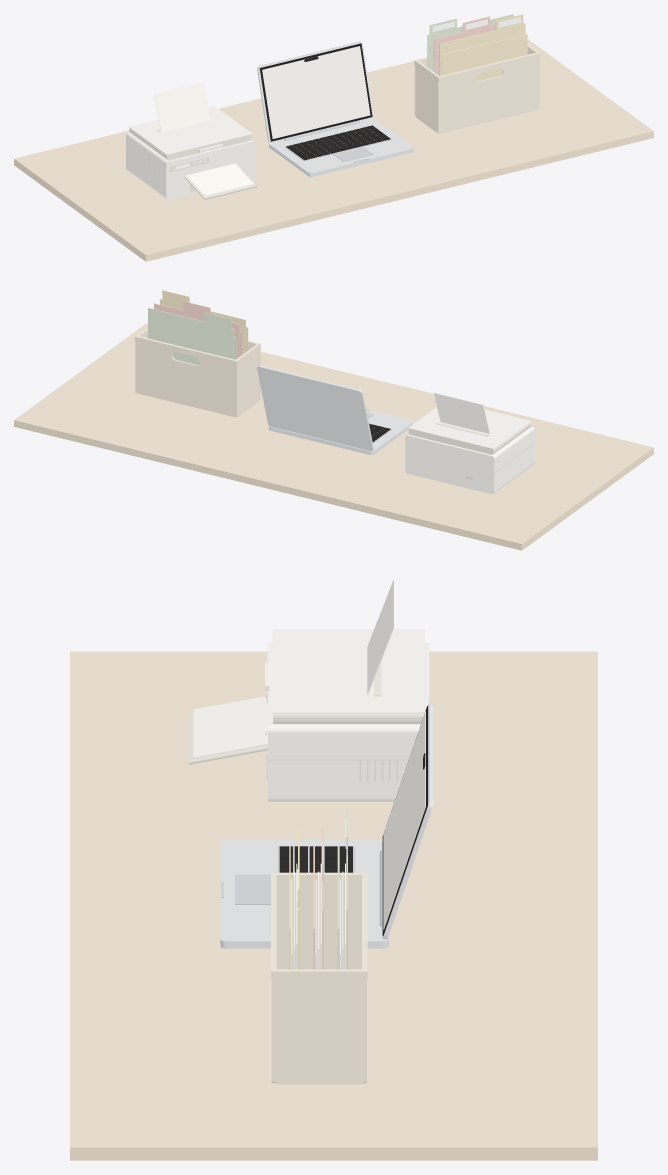
File: header-table.glb
3 renders of one model, top to bottom at view 1: azimuth 30°, elevation 25°; view 2: azimuth 150°, elevation 25°; view 3: azimuth 270°, elevation 25°, orthographic. The views are drawn at different scales.
Parts seen in each view (by area): view 1: deskSurface, screenFace, boxFrontPanel, printerBody, laptopBase, scannerLidInset, folderCFront, feedSheet, outputSheet, boxSideL, folderCBack, screenBezel (+5 smaller); view 2: deskSurface, lidPanel, boxBackPanel, printerBody, folderABack, scannerLidInset, feedSheet, laptopBase, boxSideL, scannerLid, boxRimBack, folderBBack (+1 smaller); view 3: deskSurface, scannerLidInset, printerBody, boxSideR, laptopBase, boxSideL, screenFace, outputSheet, scannerLid, feedSheet, lidPanel, trackpad (+3 smaller).
Part boxes in pixels (x1,y1,x2,y2): deskSurface: (14,39,653,261); screenFace: (262,46,370,138); boxFrontPanel: (437,53,539,133); printerBody: (126,132,255,199); laptopBase: (269,118,413,176); scannerLidInset: (129,106,252,154); folderCFront: (441,34,527,81); feedSheet: (154,82,210,132); outputSheet: (186,163,253,196); boxSideL: (416,61,437,133); folderCBack: (439,23,525,75); screenBezel: (259,43,372,141); deskSurface: (14,323,653,550); lidPanel: (257,365,373,451); boxBackPanel: (135,336,237,417); printerBody: (405,426,534,494); folderABack: (148,308,233,364); scannerLidInset: (408,407,531,449); feedSheet: (434,393,489,433); laptopBase: (269,410,413,455); boxSideL: (236,345,259,416); scannerLid: (408,422,531,454); boxRimBack: (135,336,237,365); folderBBack: (154,303,239,358); deskSurface: (70,651,597,1160); scannerLidInset: (272,629,424,713); printerBody: (268,643,429,801); boxSideR: (275,970,363,1084); laptopBase: (220,839,388,948); boxSideL: (275,873,363,969); screenFace: (383,711,425,929); outputSheet: (193,696,267,758); scannerLid: (273,713,424,723); feedSheet: (367,579,394,694); lidPanel: (382,703,433,939); trackpad: (235,874,270,904).
Bounding box in the file's own units: 1.6 × 0.3002 × 0.72.
